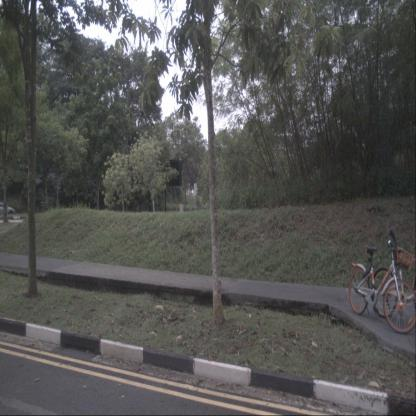vehicle-bicycle: (348, 230, 416, 335), (370, 231, 416, 320)
vehicle-car: (0, 202, 16, 220)
